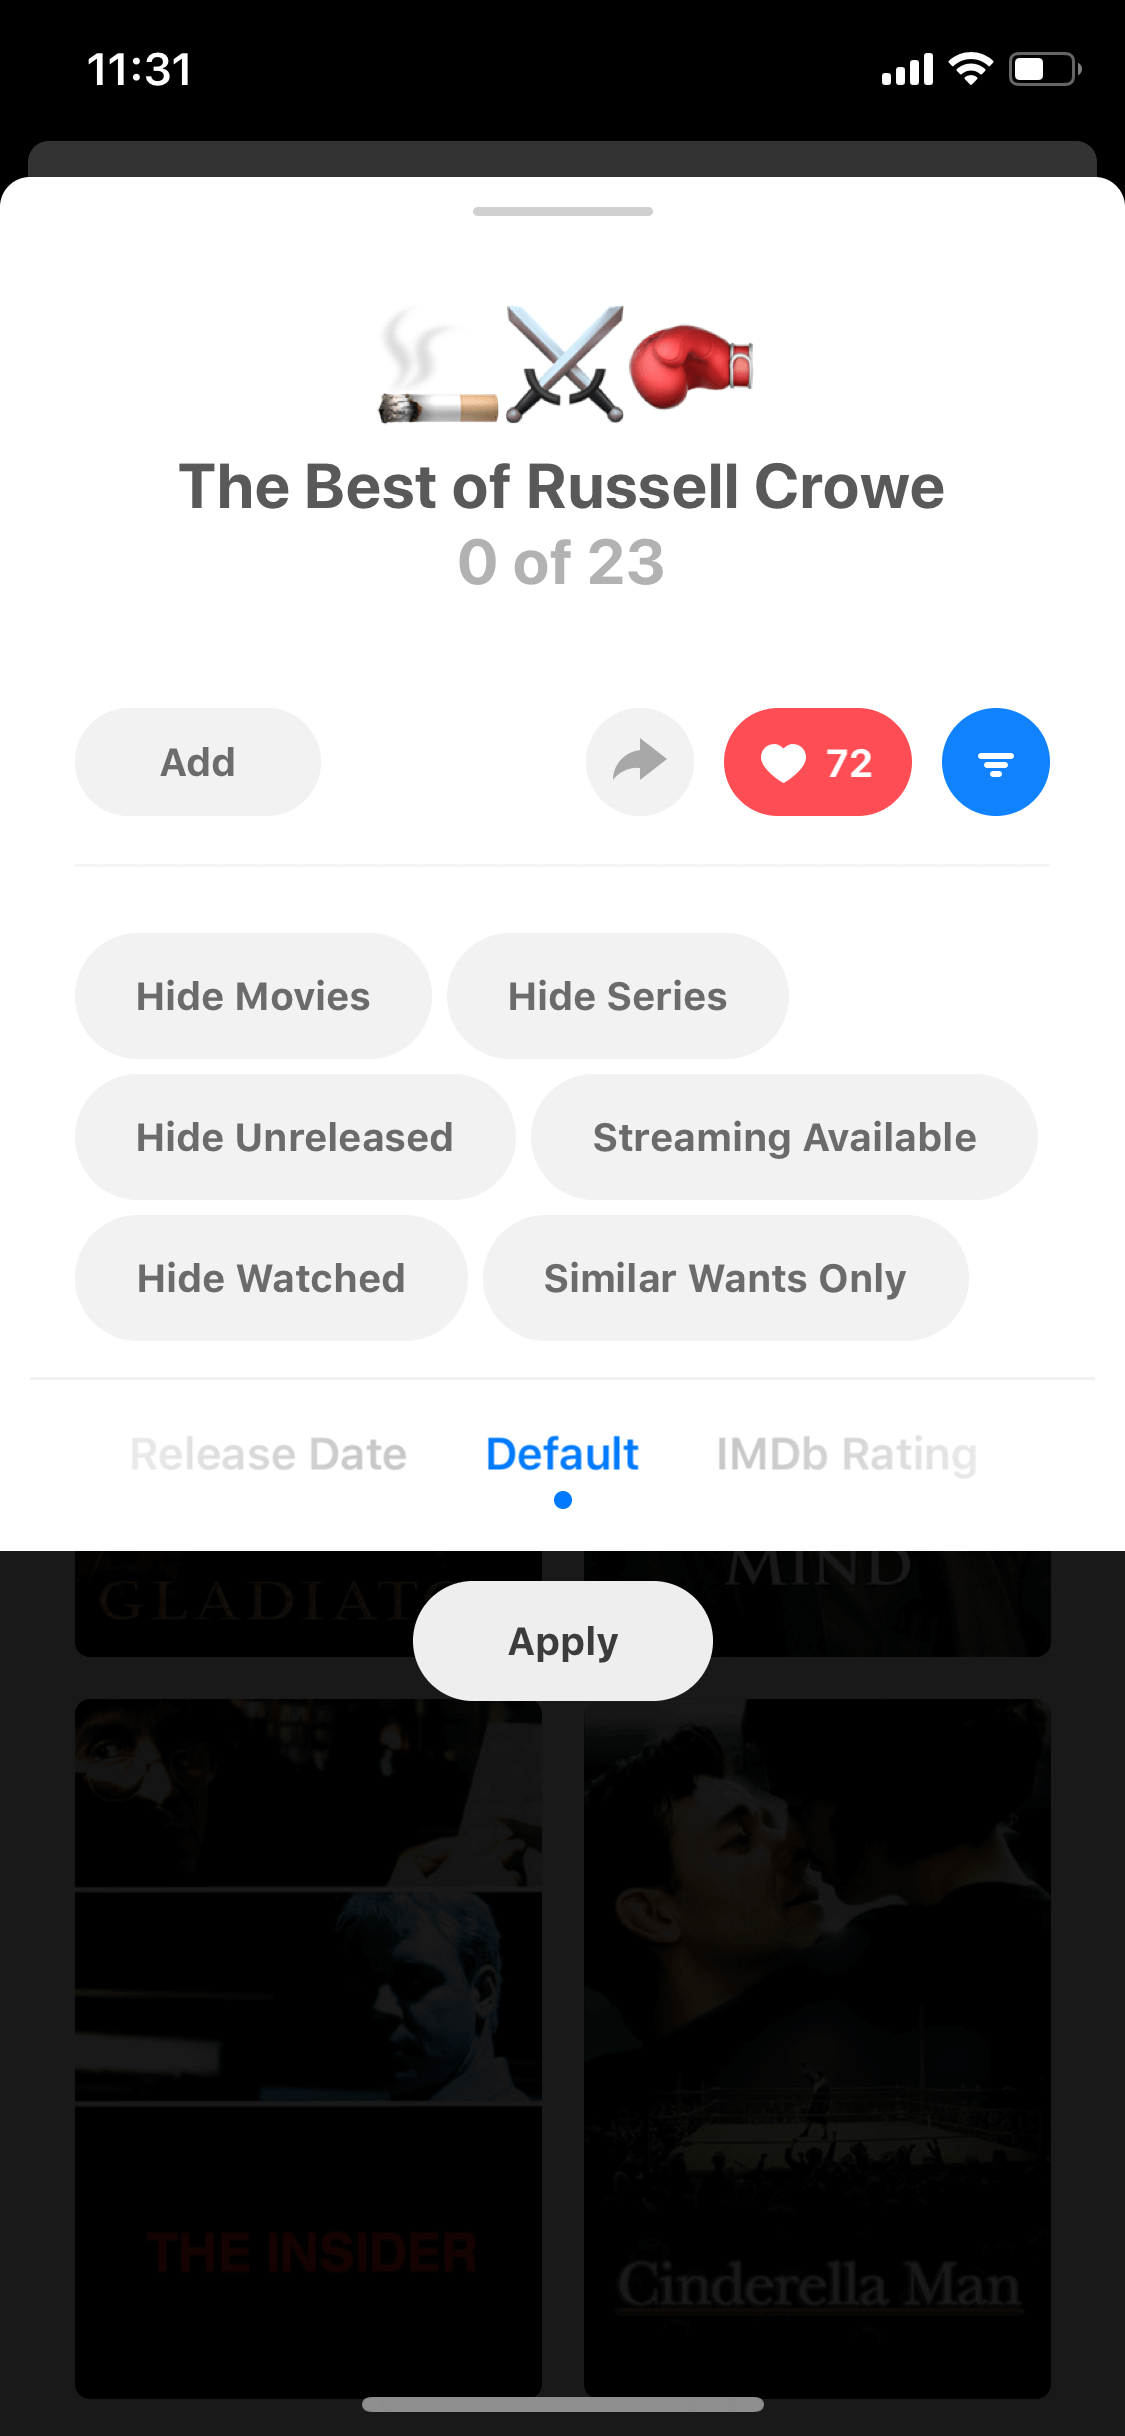Buttons: (406, 1571, 730, 1714), (70, 693, 334, 834), (719, 696, 914, 834), (538, 691, 701, 836), (935, 694, 1061, 834)
